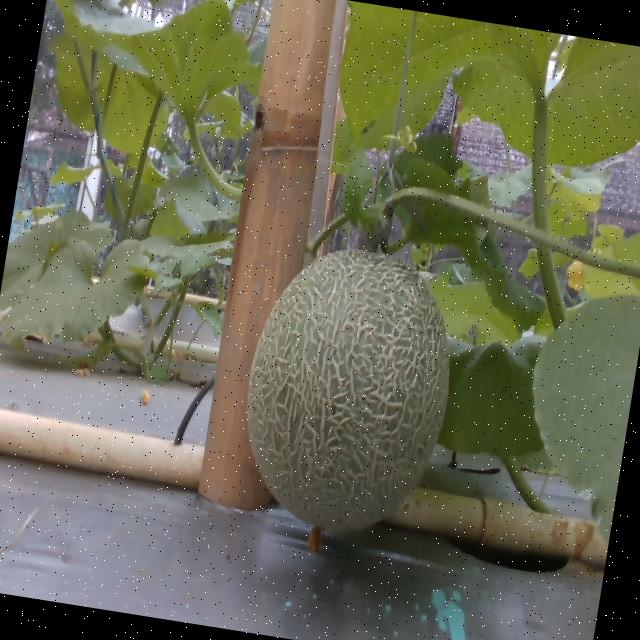melon: (248, 251, 450, 531)
